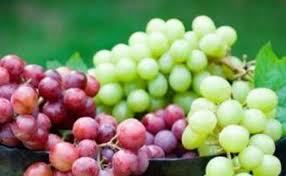Green grapes: (186, 80, 286, 174)
Red Grapes: (37, 114, 177, 176), (1, 52, 86, 136)
